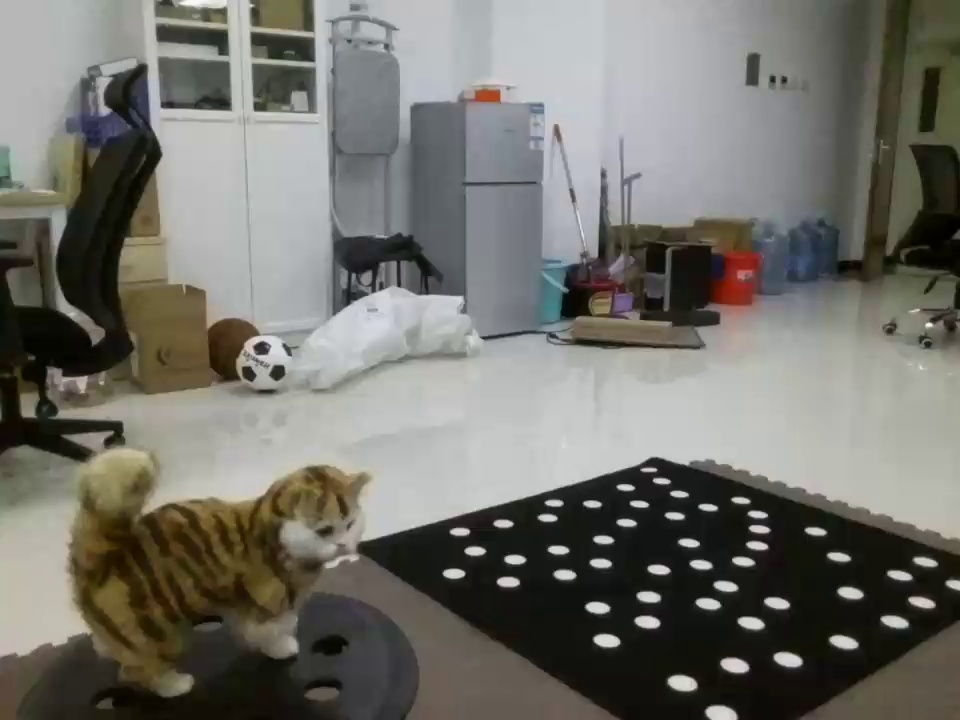cat: (60, 458, 382, 675)
